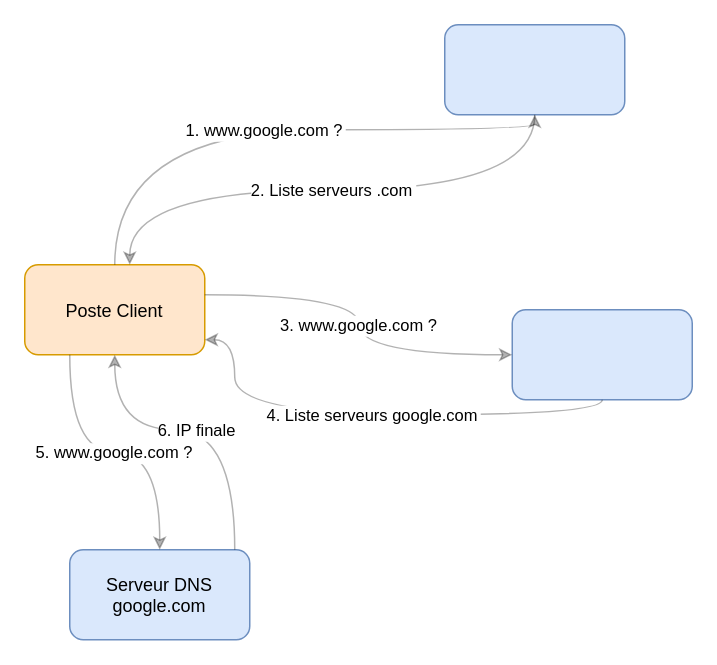
Image size: 717x665. Some labels were removed from this diagram. Here are the shapes that lost their labels. From the top down, the centre of each, then its label:
At pixel 534 69: "Serveur DNS Racine".
At pixel 601 354: "Serveur DNS .com".
